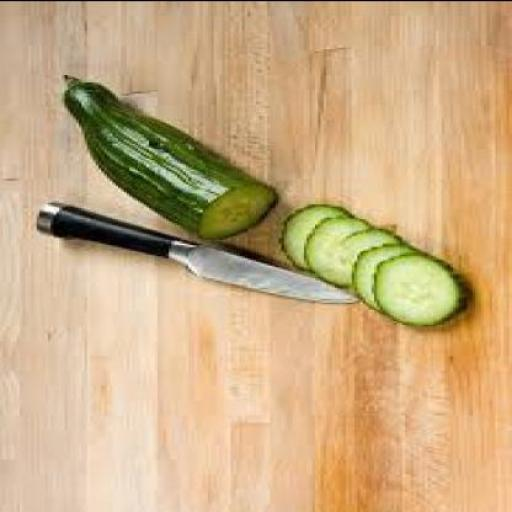biodegradable: (56, 72, 273, 237), (372, 250, 462, 324), (301, 213, 382, 284), (346, 241, 422, 307), (278, 201, 346, 268), (332, 226, 399, 282)
metal: (163, 237, 355, 301)
